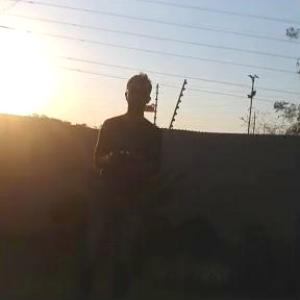follow: (88, 67, 166, 299)
